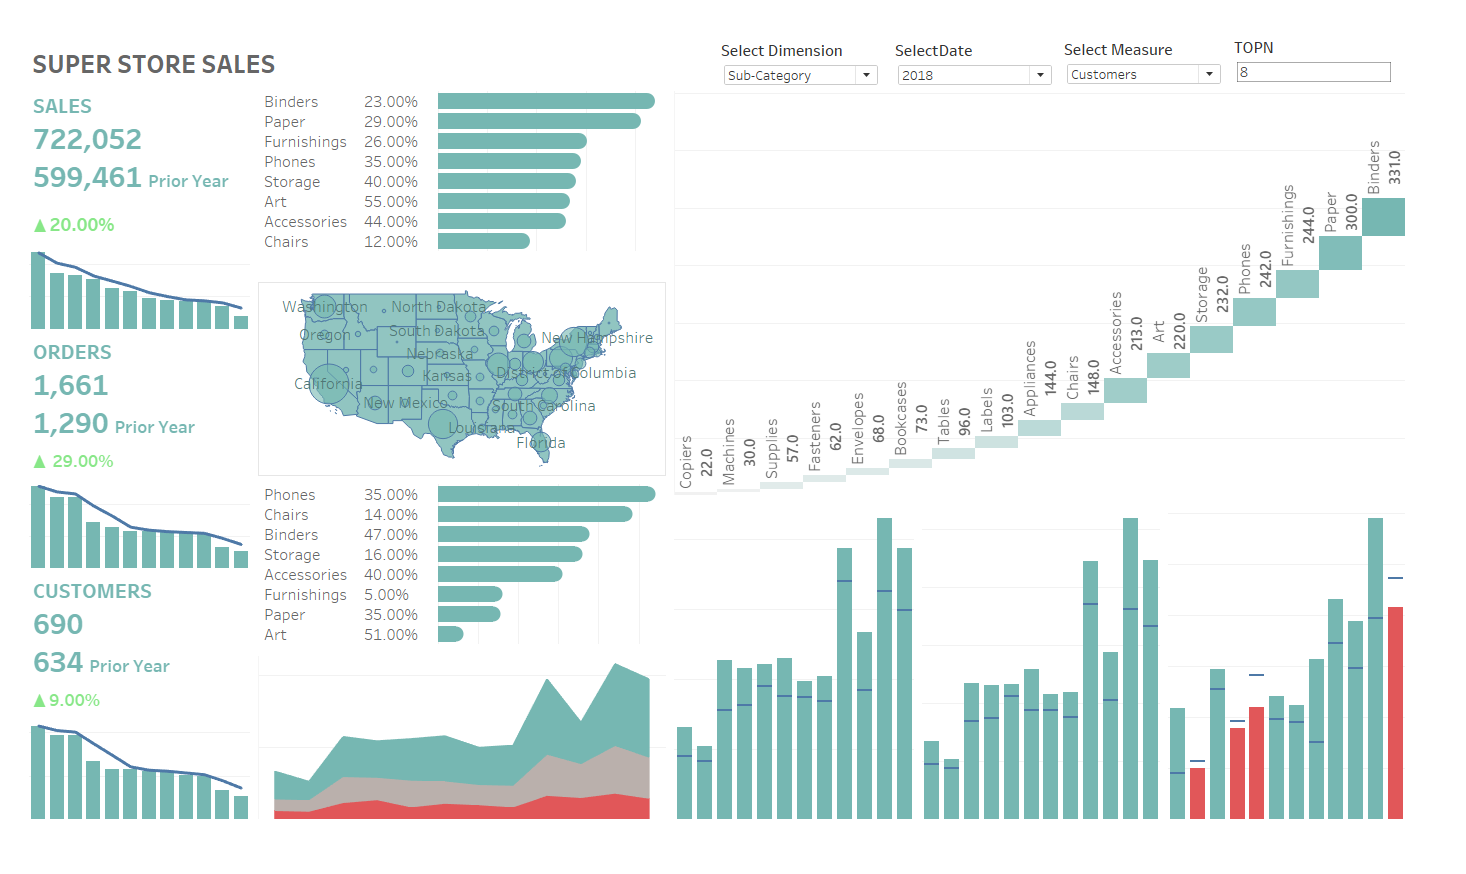

The page's visual inventory and layout, read from the dashboard file:
{"tool":"tableau","page":{"name":"SalesDashboard","canvas":[1400,800],"ordinal":0},"visuals":[{"type":"parameter","param":"[Parameters].[Parameter 3]","box":[1217,6,160,48]},{"type":"text","box":[8,8,1384,48]},{"type":"parameter","param":"[Parameters].[Parameter 2]","box":[1047,8,160,48]},{"type":"parameter","param":"[Parameters].[Parameter 4]","box":[704,9,160,48]},{"type":"parameter","param":"[Parameters].[Parameter 1]","box":[878,9,160,48]},{"type":"worksheet","title":"KEYMETRICS1","mark":"Automatic","box":[8,56,229,120]},{"type":"worksheet","title":"TOPN","mark":"Bar","rows":["Calculation_1054968226055372800","PCTDIFF (copy)_956733458518482955"],"cols":["YTDSALES (copy)_956733458517254153","YTDSALES (copy)_956733458517254153"],"box":[237,56,416,191]},{"type":"worksheet","title":"WATERFALL_CHART","mark":"GanttBar","cols":["Sub-Category"],"box":[653,56,739,412]},{"type":"worksheet","title":"PCTCOLOR1","mark":"Automatic","box":[8,176,229,36]},{"type":"worksheet","title":"KPICOLUMN","mark":"Bar","rows":["Sales","Sales"],"cols":["Calculation_1000362080009433101"],"box":[8,212,229,90]},{"type":"worksheet","title":"MAP","mark":"Multipolygon","box":[237,247,416,202]},{"type":"worksheet","title":"KEYMETRICS2","mark":"Automatic","box":[8,302,229,111]},{"type":"worksheet","title":"PCTCOLOR2","mark":"Automatic","box":[8,413,229,32]},{"type":"worksheet","title":"KPICOLUMN (2)","mark":"Bar","rows":["Order ID","Order ID"],"cols":["Calculation_1000362080009433101"],"box":[8,445,229,96]},{"type":"worksheet","title":"TOPN (2)","mark":"Automatic","rows":["Calculation_1054968226055372800","Calculation_956733458514321414"],"cols":["Calculation_956733458513256450","Calculation_956733458513256450"],"box":[237,449,416,172]},{"type":"worksheet","title":"COLUMN_CUSTOMERS","mark":"GanttBar","rows":["YTDORDER (copy)_655555233499553792","YTD ORDERS SPLY  (copy)_655555233499680769"],"cols":["Order Date"],"box":[653,468,247.8,324]},{"type":"worksheet","title":"COLUMN_ORDERS","mark":"Bar","rows":["YTDSALES (copy)_956733458517254153","YTD Sales SPLY (copy)_956733458518306826"],"cols":["Order Date"],"box":[900.8,468,246.2,324]},{"type":"worksheet","title":"COLUMN_SALES","mark":"GanttBar","rows":["Calculation_956733458513256450","Calculation_956733458513817605"],"cols":["Order Date"],"box":[1147,468,245,324]},{"type":"worksheet","title":"KEYMETRICS3","mark":"Automatic","box":[8,541,229,111]},{"type":"worksheet","title":"Bump_Chart","mark":"Area","rows":["Calculation_1000362079997186048"],"cols":["Calculation_1000362080009433101"],"box":[237,621,416,171]},{"type":"worksheet","title":"PCTCOLOR3","mark":"Automatic","box":[8,652,229,32]},{"type":"worksheet","title":"KPICOLUMN (3)","mark":"Bar","rows":["Customer ID","Customer ID"],"cols":["Calculation_1000362080009433101"],"box":[8,684,229,108]}]}

Visuals, with their boxes on the page's 1400x800 design canvas (x1, y1, x2, y2). These are canvas units, not pixel positions in the 1466x874 screenshot, which may show the page scaled, cropped or inside an application window:
parameter: 1217, 6, 1377, 54
text: 8, 8, 1392, 56
parameter: 1047, 8, 1207, 56
parameter: 704, 9, 864, 57
parameter: 878, 9, 1038, 57
"KEYMETRICS1" worksheet: 8, 56, 237, 176
"TOPN" worksheet (Bar marks): 237, 56, 653, 247
"WATERFALL_CHART" worksheet (GanttBar marks): 653, 56, 1392, 468
"PCTCOLOR1" worksheet: 8, 176, 237, 212
"KPICOLUMN" worksheet (Bar marks): 8, 212, 237, 302
"MAP" worksheet (Multipolygon marks): 237, 247, 653, 449
"KEYMETRICS2" worksheet: 8, 302, 237, 413
"PCTCOLOR2" worksheet: 8, 413, 237, 445
"KPICOLUMN (2)" worksheet (Bar marks): 8, 445, 237, 541
"TOPN (2)" worksheet: 237, 449, 653, 621
"COLUMN_CUSTOMERS" worksheet (GanttBar marks): 653, 468, 901, 792
"COLUMN_ORDERS" worksheet (Bar marks): 901, 468, 1147, 792
"COLUMN_SALES" worksheet (GanttBar marks): 1147, 468, 1392, 792
"KEYMETRICS3" worksheet: 8, 541, 237, 652
"Bump_Chart" worksheet (Area marks): 237, 621, 653, 792
"PCTCOLOR3" worksheet: 8, 652, 237, 684
"KPICOLUMN (3)" worksheet (Bar marks): 8, 684, 237, 792
